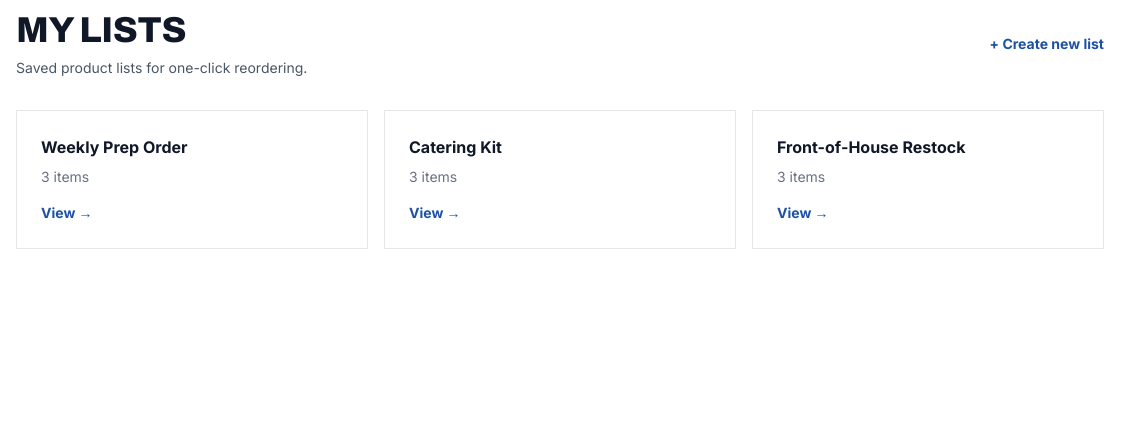
Test case: ListsPage › adds a new list card when the create form is submitted
The image size is (1121, 421).
Click the button "+ Create new list". click: (1047,44)
box: [990, 34, 1104, 54]
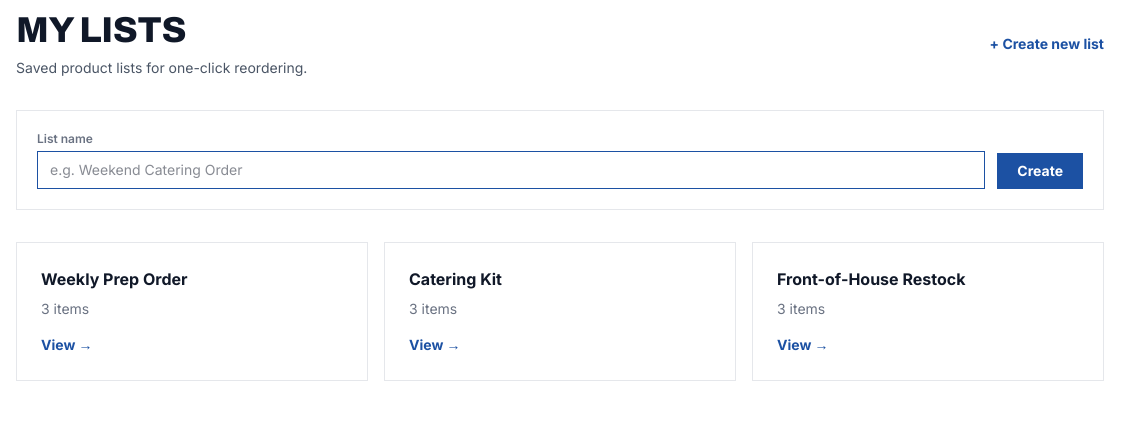
Type "Holiday Party Supplies" into the field with placeholder "e.g. Weekend Catering Order". click: (511,170)
box: [37, 151, 985, 189]
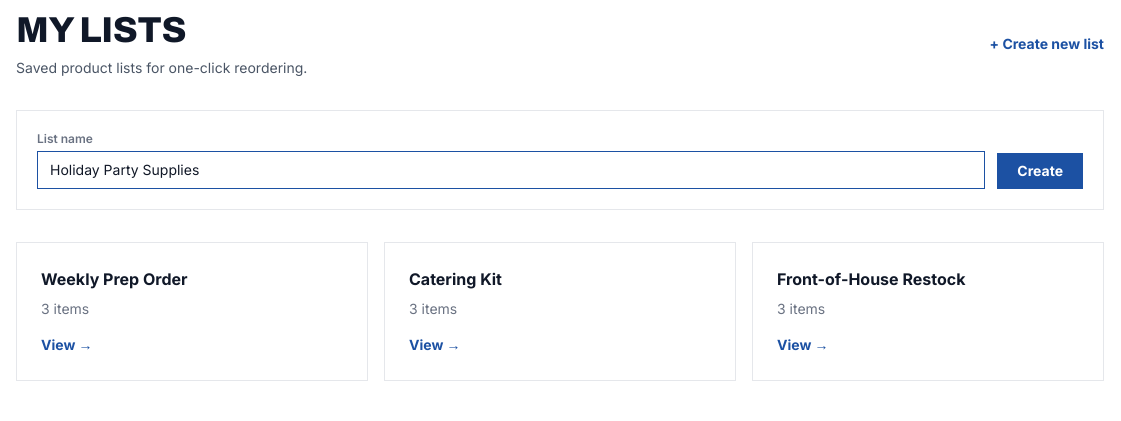
Click the button "Create". click: (1040,171)
box: [997, 153, 1083, 189]
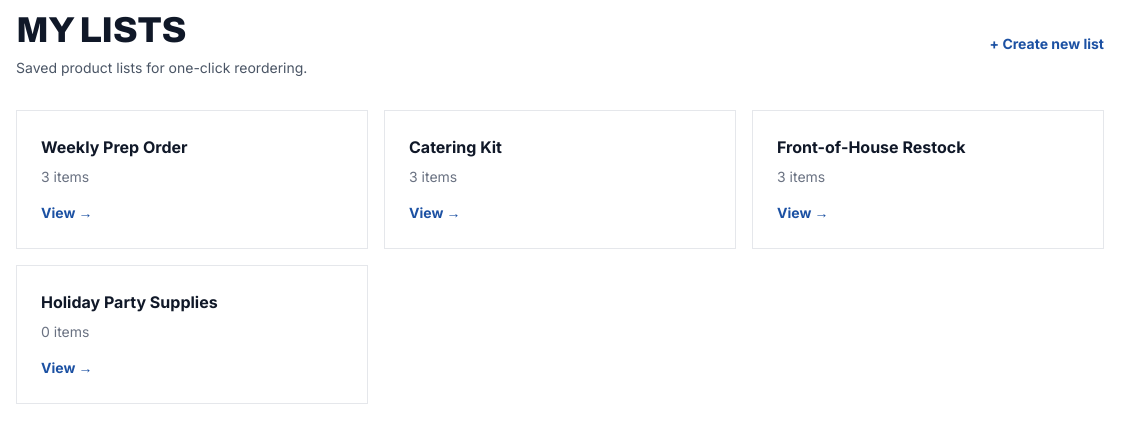
Check: the field with placeholder "Weekend Catering Order" is not shown
Check: the heading "Holiday Party Supplies" is shown, box [41, 292, 218, 312]
Check: the text "0 items" is shown, box [41, 323, 89, 340]
